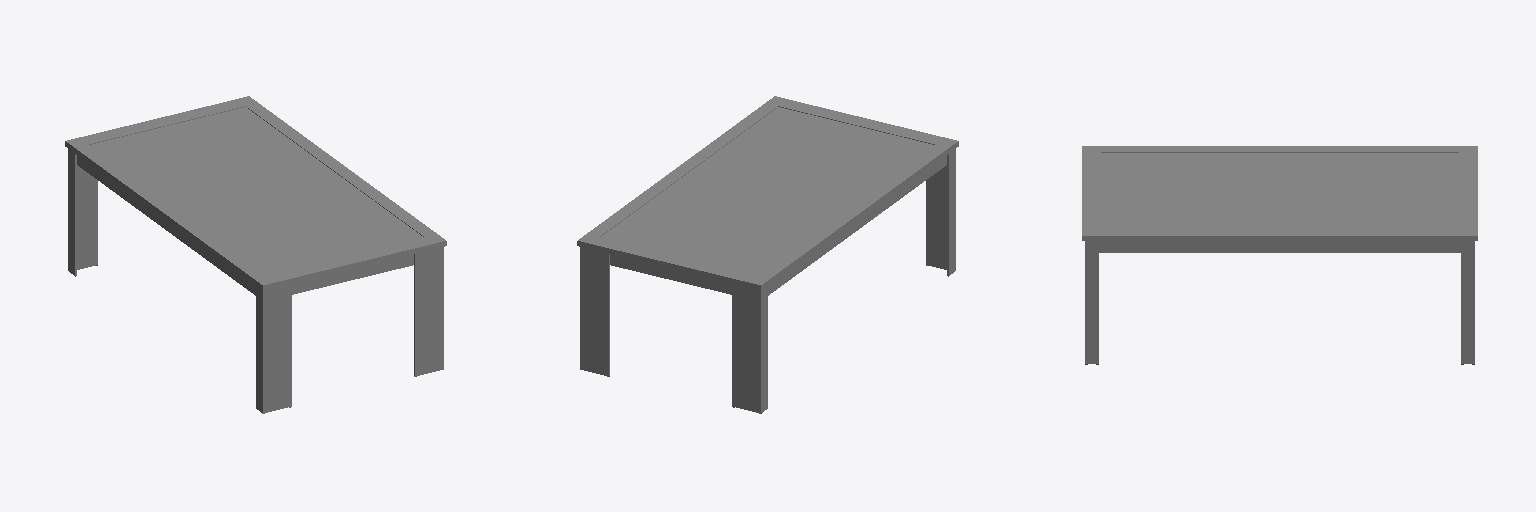
Rendered from MESA.obj.
3 renders of one model, left to right at view 1: azimuth 30°, elevation 25°; view 2: azimuth 150°, elevation 25°; view 3: azimuth 270°, elevation 25°, orthographic.
Visible parts, largest first — view 1: Cube; view 2: Cube; view 3: Cube.
Part boxes in pixels (bbox=[...]): Cube: bbox=[65, 96, 446, 413]; Cube: bbox=[577, 96, 958, 413]; Cube: bbox=[1082, 146, 1477, 364].
Bounding box in the file's own units: 86.86 × 58.85 × 162.